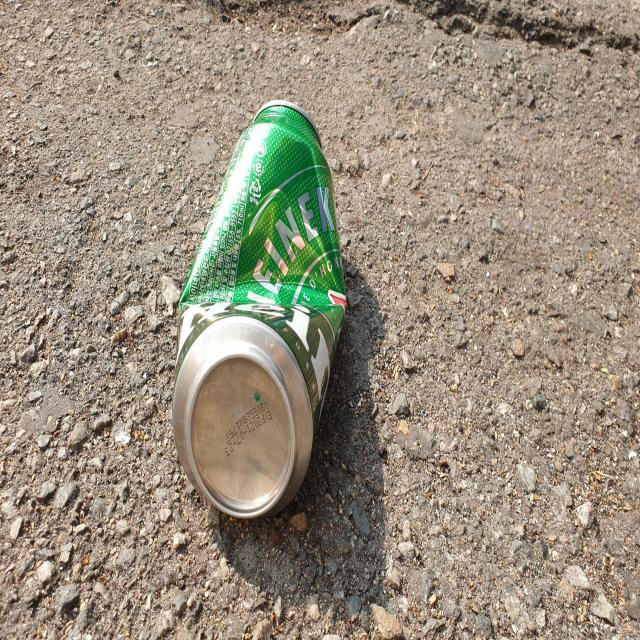can: (172, 99, 347, 518)
